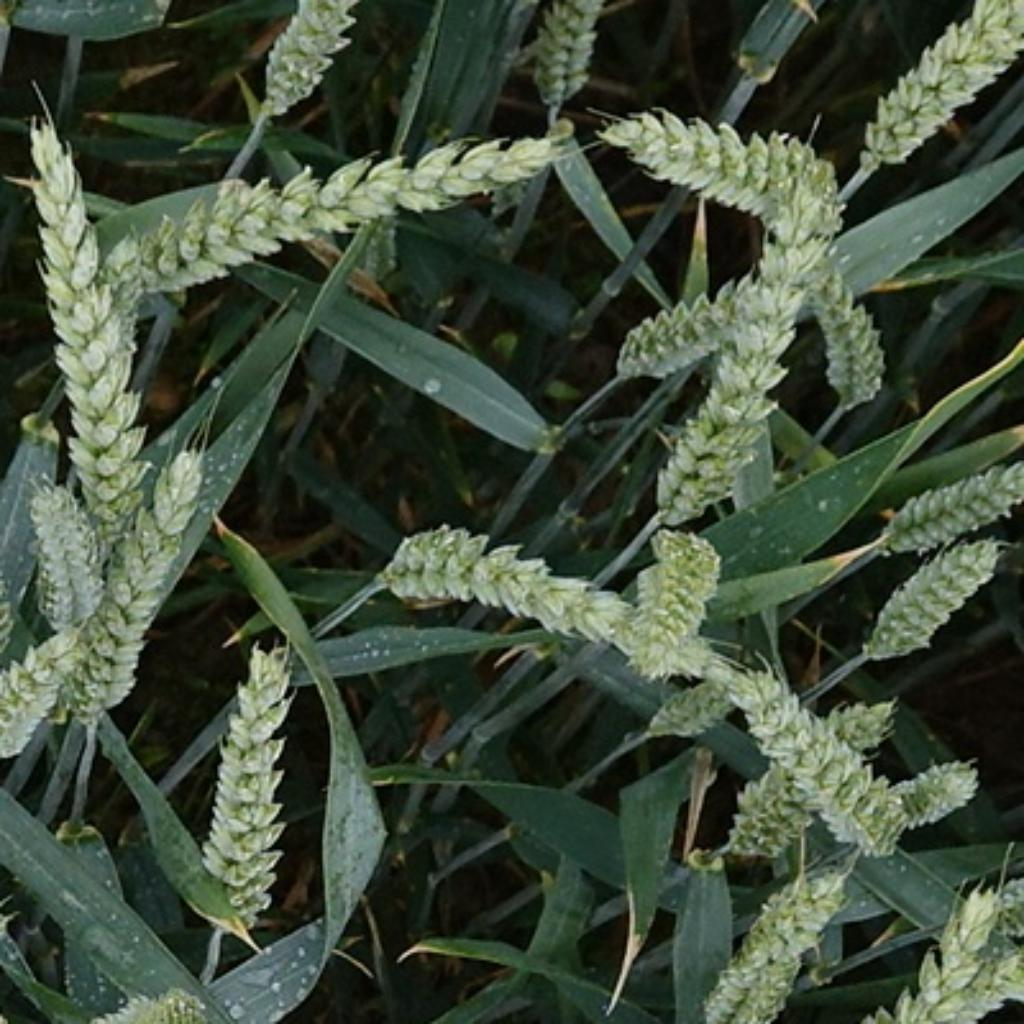0-0: (109, 119, 584, 299), (647, 197, 835, 548), (20, 99, 151, 514), (181, 642, 307, 931), (69, 453, 216, 696), (601, 94, 852, 232), (369, 517, 615, 647), (606, 253, 808, 394), (730, 693, 899, 859), (673, 857, 839, 1024), (862, 0, 1024, 168), (724, 662, 862, 825), (861, 869, 1000, 1022), (864, 543, 1013, 671), (621, 514, 721, 695), (866, 456, 1024, 556), (0, 604, 93, 760), (245, 2, 358, 120), (859, 744, 985, 839), (924, 905, 1024, 1023), (28, 473, 99, 632), (806, 271, 893, 396), (535, 2, 609, 109), (71, 978, 209, 1024), (645, 679, 739, 743)
